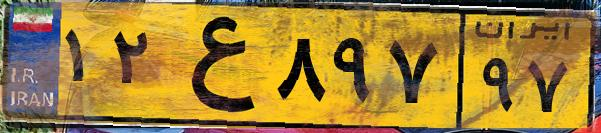1: (57, 26, 110, 100)
2: (110, 28, 158, 98)
7: (385, 28, 445, 110), (525, 38, 570, 115)
8: (270, 28, 330, 110)
9: (330, 28, 385, 110), (475, 38, 525, 113)
ع: (158, 12, 270, 120)
